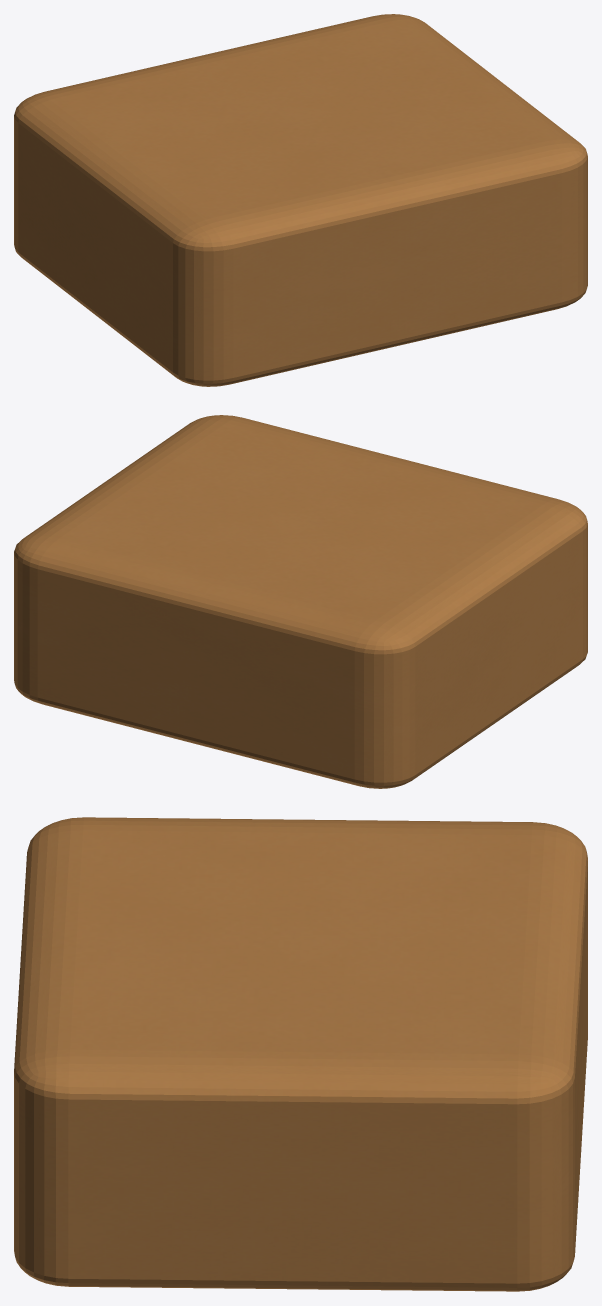
The model's file is MurCoursHaut.glb.
The picture shows the model from 3 angles, top to bottom: view 1: azimuth 30°, elevation 25°; view 2: azimuth 150°, elevation 25°; view 3: azimuth 270°, elevation 25°; orthographic projection. The views are drawn at different scales.
Visible parts, largest first — view 1: Cube; view 2: Cube; view 3: Cube.
Boxes of the visible parts, x1,y1,x2,y2 form: Cube: (14,14,587,386); Cube: (14,415,587,788); Cube: (14,817,587,1291).
Size of the model in its own units: 15.96 by 5.98 by 13.88.
Materials: 1 (1 with a texture image).
